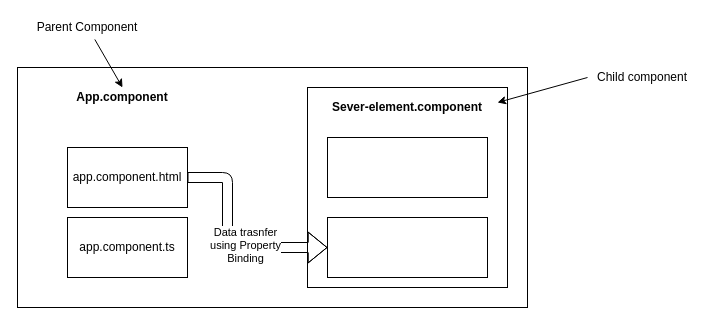
The diagram is 715 pixels wide and 325 high, and some of its shapes have lost their labels. The box of each missing label's shape, as (x1, y1, x2, y2) in pixels:
server.element.html: (326, 136, 488, 198)
server.element.ts: (326, 216, 488, 278)
